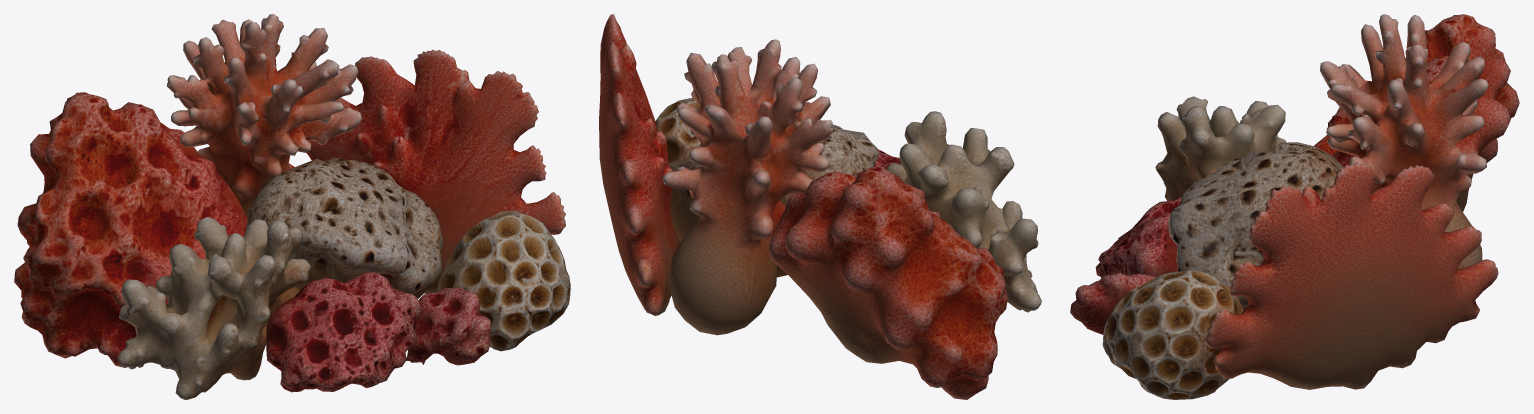
The model's file is coral1.glb.
3 renders of one model, left to right at view 1: azimuth 30°, elevation 25°; view 2: azimuth 150°, elevation 25°; view 3: azimuth 270°, elevation 25°, orthographic. The views are drawn at different scales.
Visible parts, largest first — view 1: ce7f60d4-1538-4ab4-9e15-4d2385abb9c2; view 2: ce7f60d4-1538-4ab4-9e15-4d2385abb9c2; view 3: ce7f60d4-1538-4ab4-9e15-4d2385abb9c2.
Boxes of the visible parts, left/top/right/bottom form: ce7f60d4-1538-4ab4-9e15-4d2385abb9c2: left=14, top=14, right=570, bottom=399; ce7f60d4-1538-4ab4-9e15-4d2385abb9c2: left=599, top=14, right=1041, bottom=399; ce7f60d4-1538-4ab4-9e15-4d2385abb9c2: left=1070, top=14, right=1519, bottom=399.
Bounding box in the file's own units: 0.9995 × 0.6216 × 0.8149.
1 material, 1 textured.
